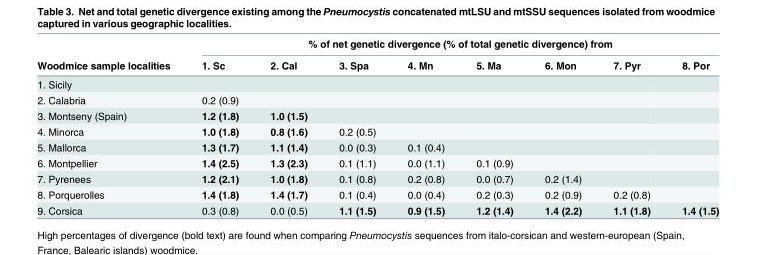table: (36, 37, 718, 215)
table column: (36, 37, 185, 215), (253, 37, 322, 215), (322, 37, 391, 215), (459, 37, 528, 215), (596, 37, 665, 215), (185, 37, 253, 215), (391, 37, 459, 215), (528, 37, 596, 215), (665, 37, 718, 215)
table column header: (36, 37, 718, 74)
table projected row header: (36, 74, 718, 91)
table row: (36, 53, 718, 74), (36, 74, 718, 91), (36, 37, 718, 53), (36, 91, 718, 107), (36, 107, 718, 123), (36, 138, 718, 154), (36, 154, 718, 170), (36, 170, 718, 186), (36, 186, 718, 202), (36, 123, 718, 138), (36, 202, 718, 215)
table spanning cell: (185, 37, 718, 53), (36, 37, 185, 74)
